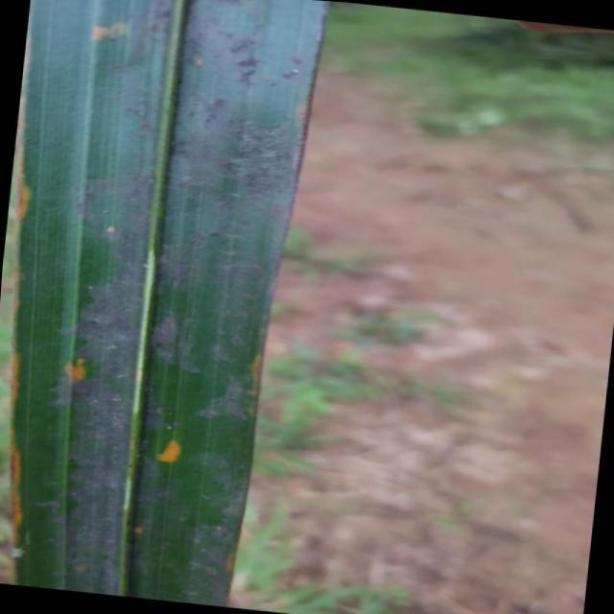Kalium: (11, 3, 326, 608)
